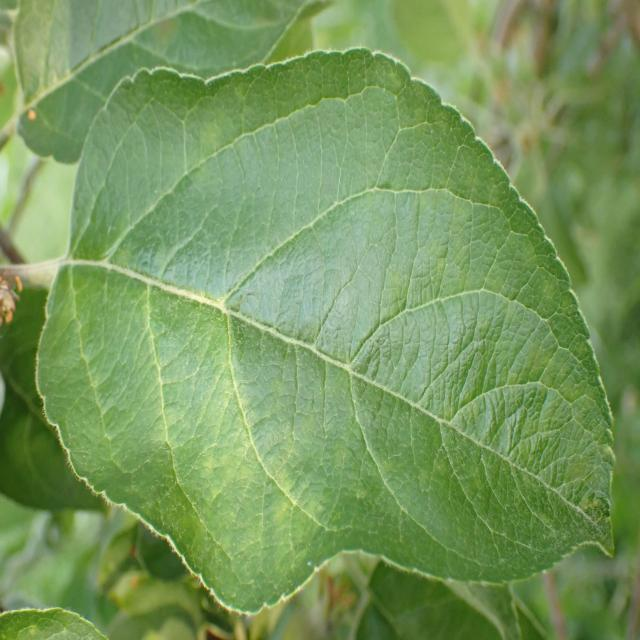scab: (29, 110, 592, 552), (88, 0, 204, 70)
